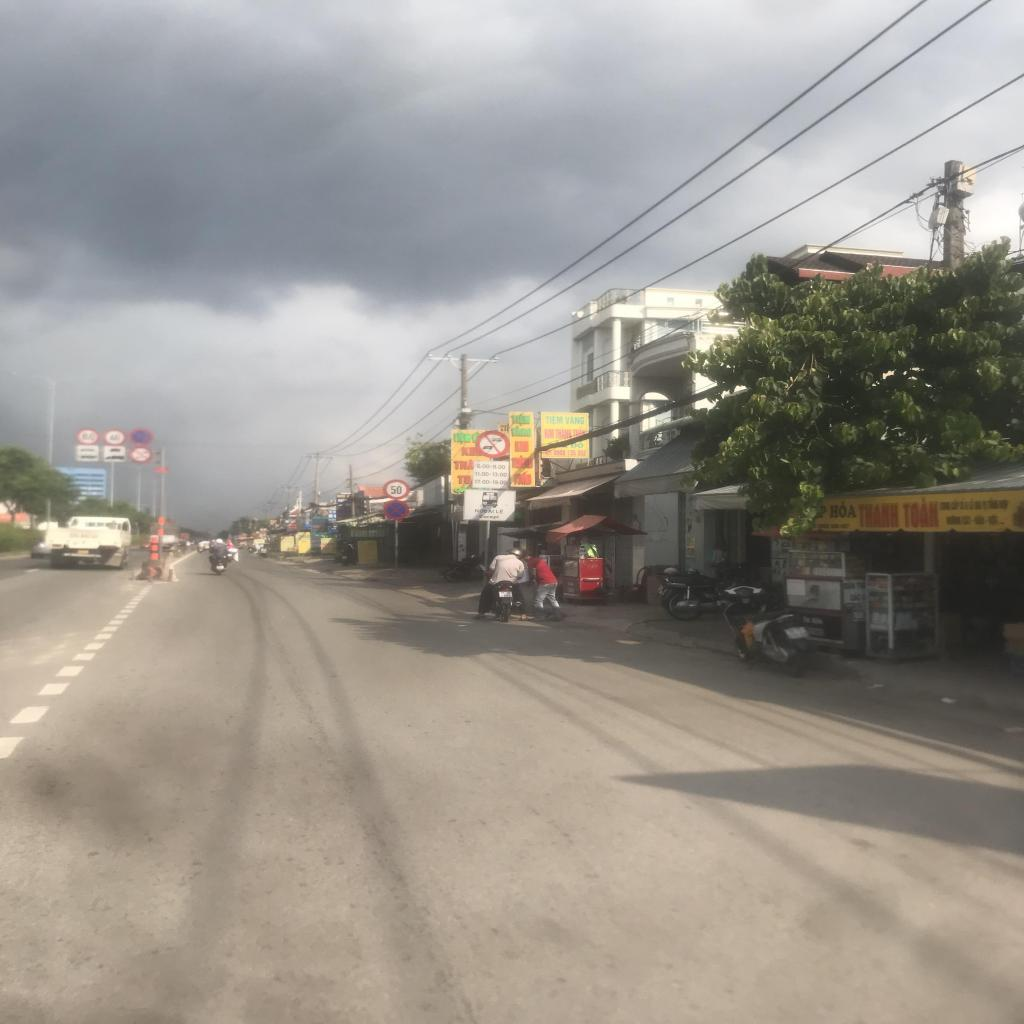cam_dung_xe_va_do_xe: (383, 500, 410, 520), (129, 428, 152, 445)
cam_o_to_tai_va_xe_khach: (475, 430, 510, 458)
cam_xe_2_banh_va_xe_3_banh_co_dong_co: (129, 446, 153, 463)
khac: (464, 490, 516, 521), (472, 460, 509, 489), (77, 446, 98, 454), (104, 454, 125, 462), (104, 446, 125, 454), (77, 454, 97, 461)
toc_do_toi_da_50: (383, 479, 410, 500)
toc_do_toi_da_60: (103, 429, 127, 446)
toc_do_toi_da_80: (76, 428, 100, 444)
